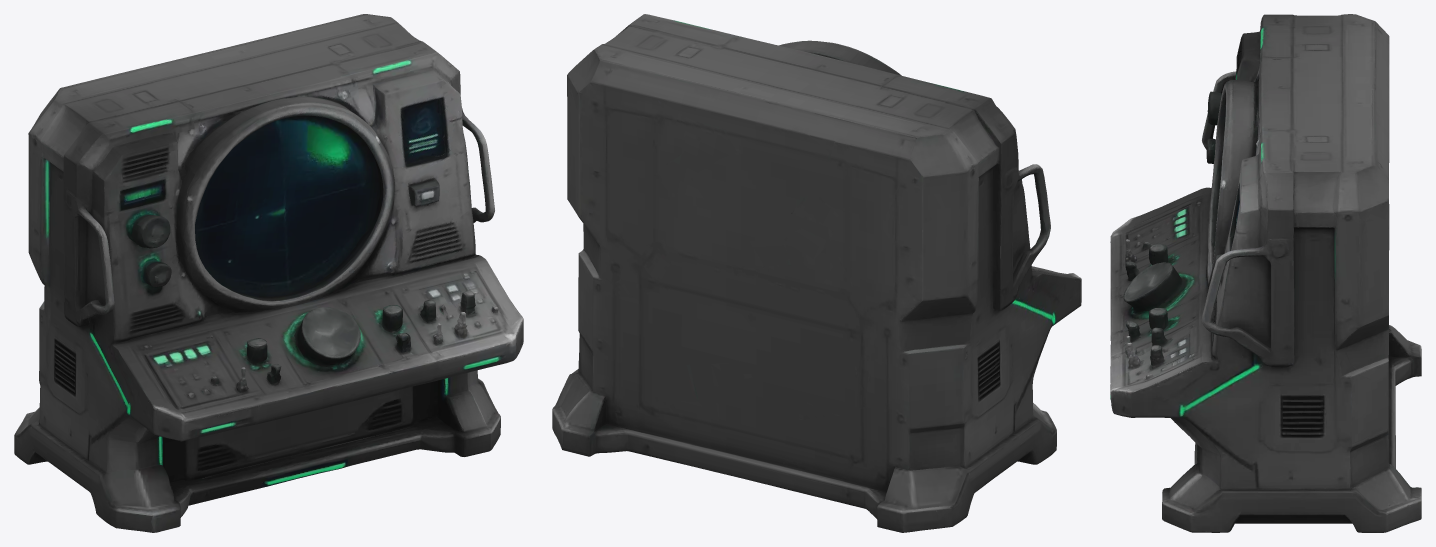
Rendered from m_radar.glb.
The picture shows the model from 3 angles, left to right: view 1: azimuth 30°, elevation 25°; view 2: azimuth 150°, elevation 25°; view 3: azimuth 270°, elevation 25°; orthographic projection. The views are drawn at different scales.
Parts seen in each view (by area): view 1: geometry_0; view 2: geometry_0; view 3: geometry_0.
Boxes of the visible parts, x1=… form: geometry_0: x1=14, y1=14, x2=523, y2=532; geometry_0: x1=552, y1=14, x2=1081, y2=532; geometry_0: x1=1110, y1=14, x2=1421, y2=532.
Bounding box in the file's own units: 0.9902 × 0.8803 × 0.7127.
Materials: 1 (1 with a texture image).
